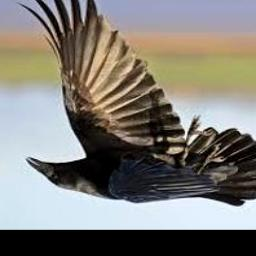Crow: (18, 0, 256, 206)
